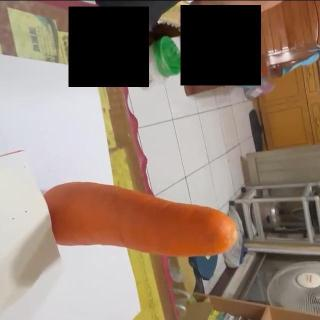carrot: (44, 181, 238, 257)
